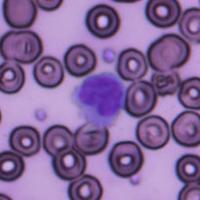M: (72, 71, 127, 129)
